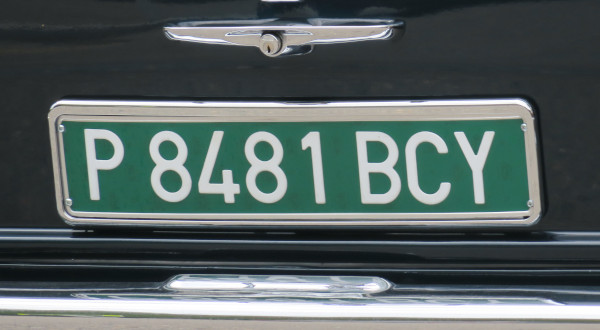license_plate: (46, 103, 540, 228)
